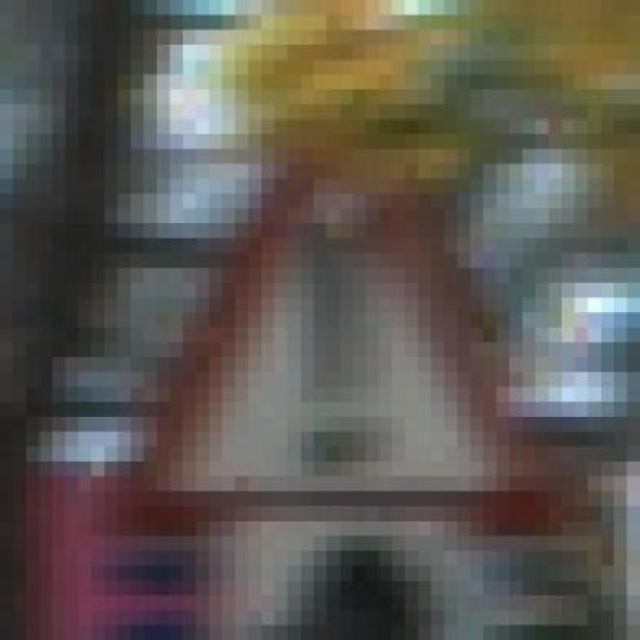Attention Please-: (90, 90, 562, 536)
